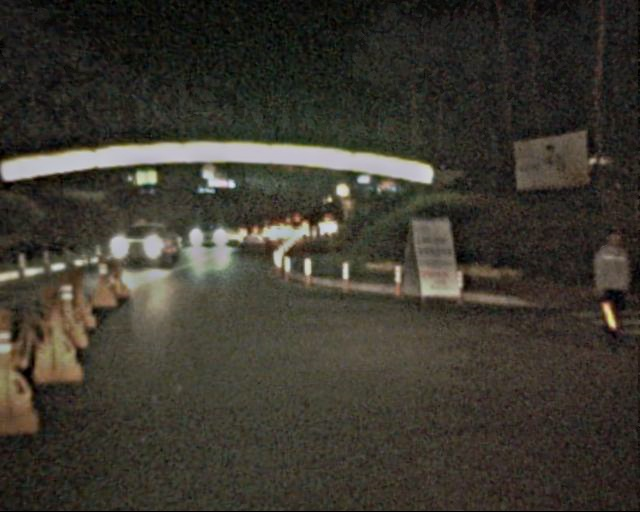person: (576, 228, 639, 351)
